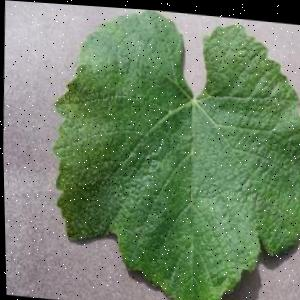Folha: (42, 2, 300, 300)
